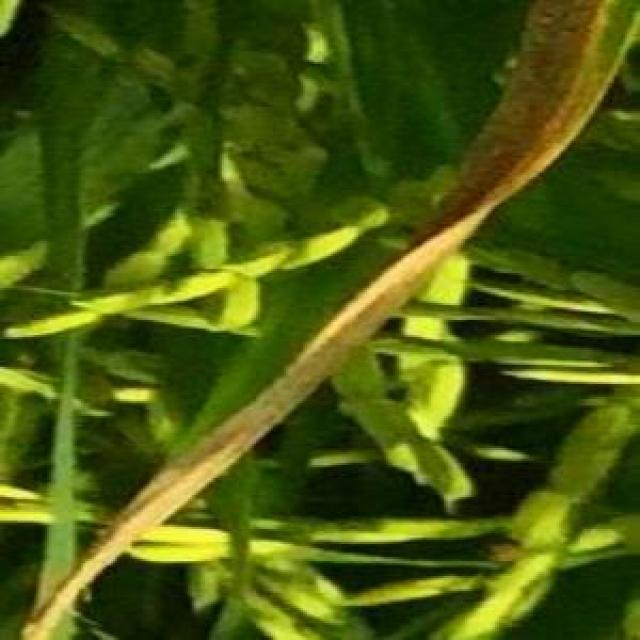Rice_Bacterial_Blight: (230, 262, 365, 420)
